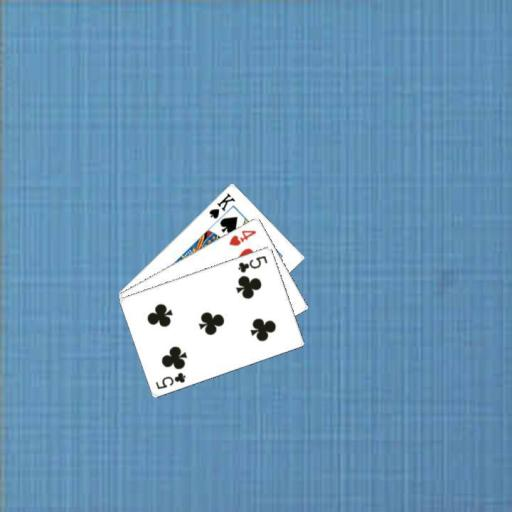4H: (226, 227, 258, 247)
5C: (235, 252, 269, 274), (153, 369, 187, 390)
KS: (205, 189, 237, 220)
